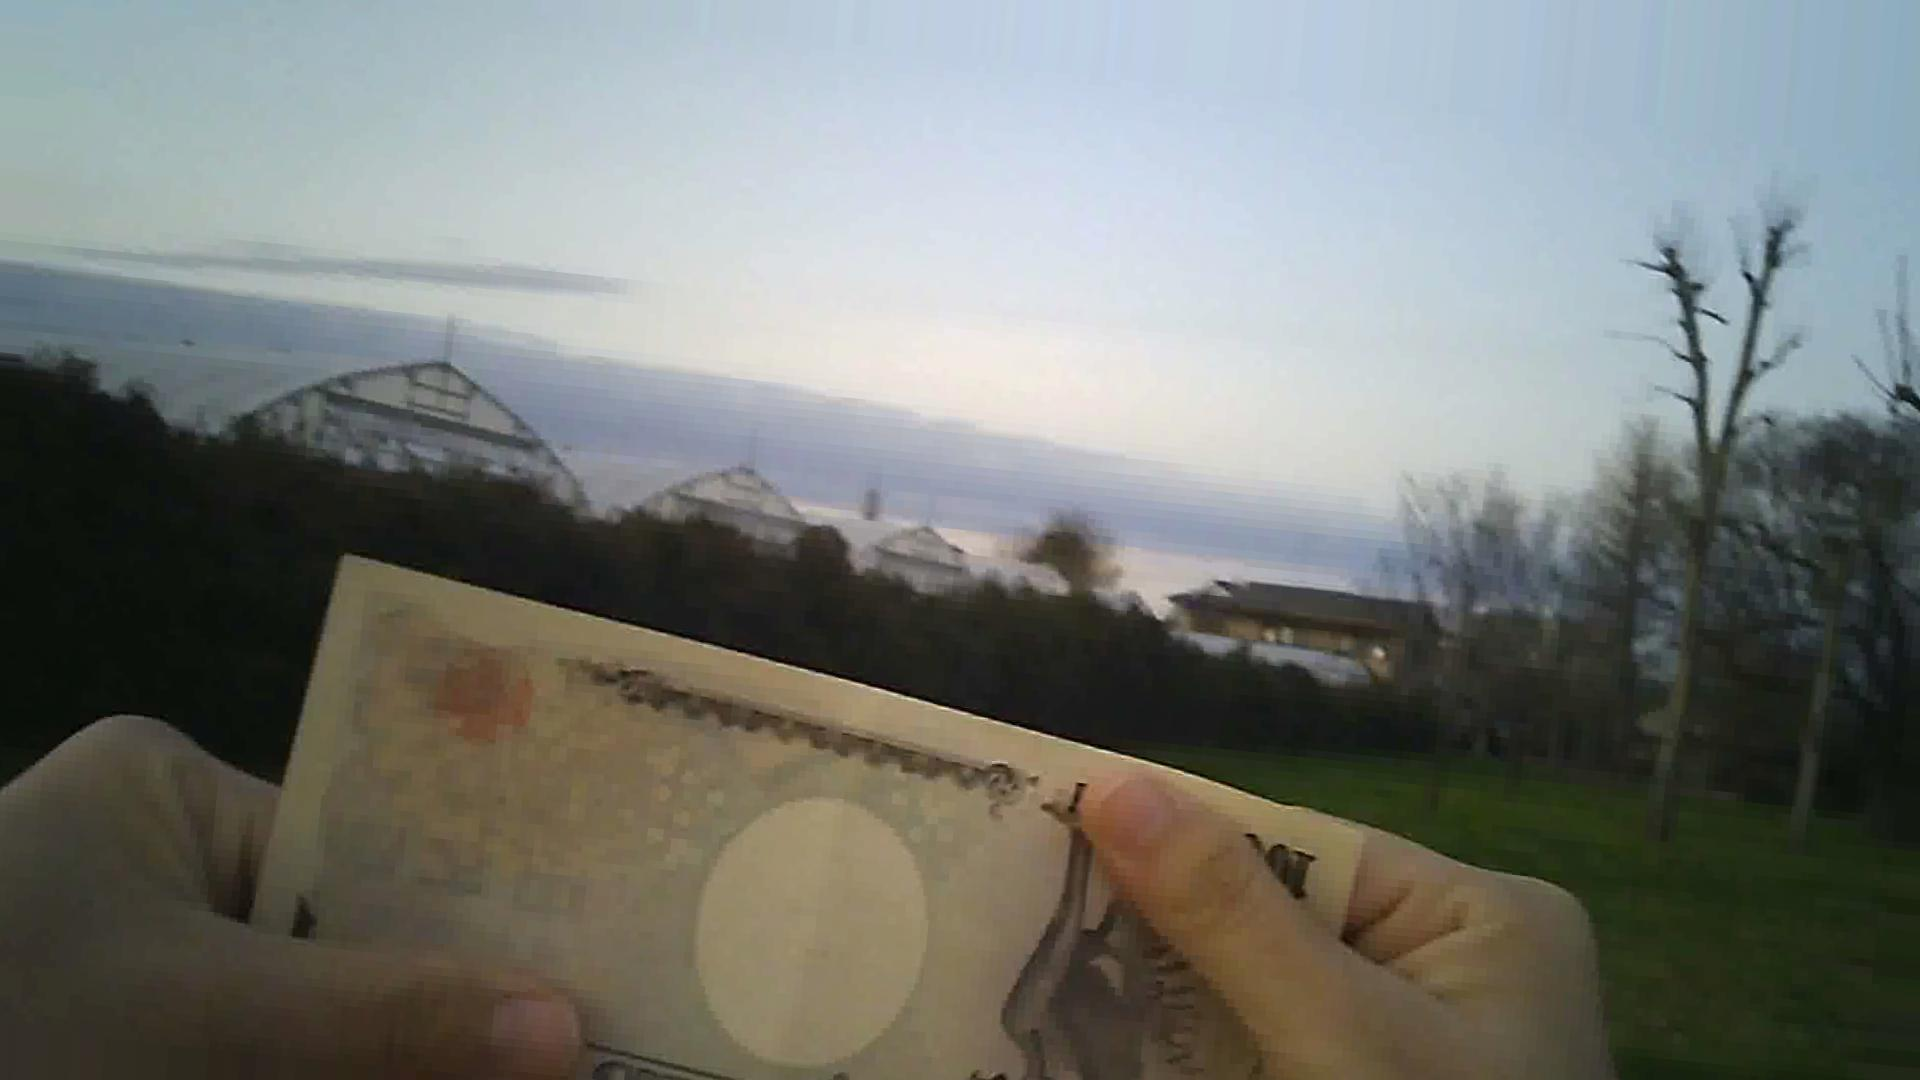10,000 Yen: (235, 534, 1341, 1073)
